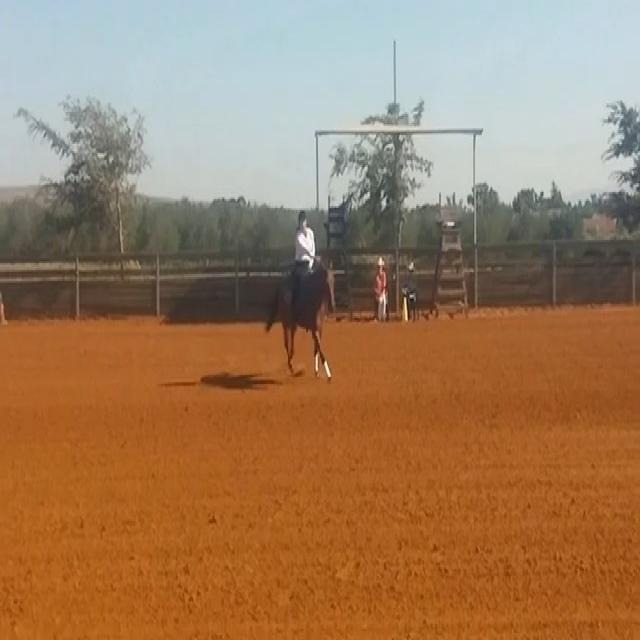horse: (263, 254, 338, 382)
